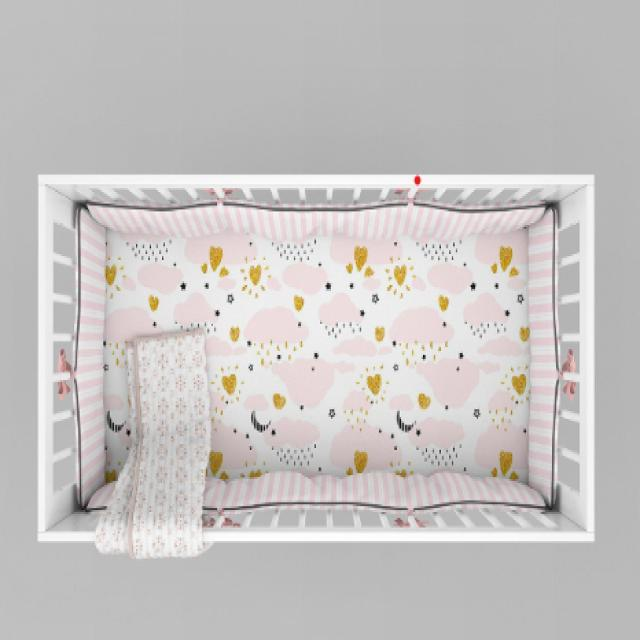crib: (37, 171, 596, 549)
